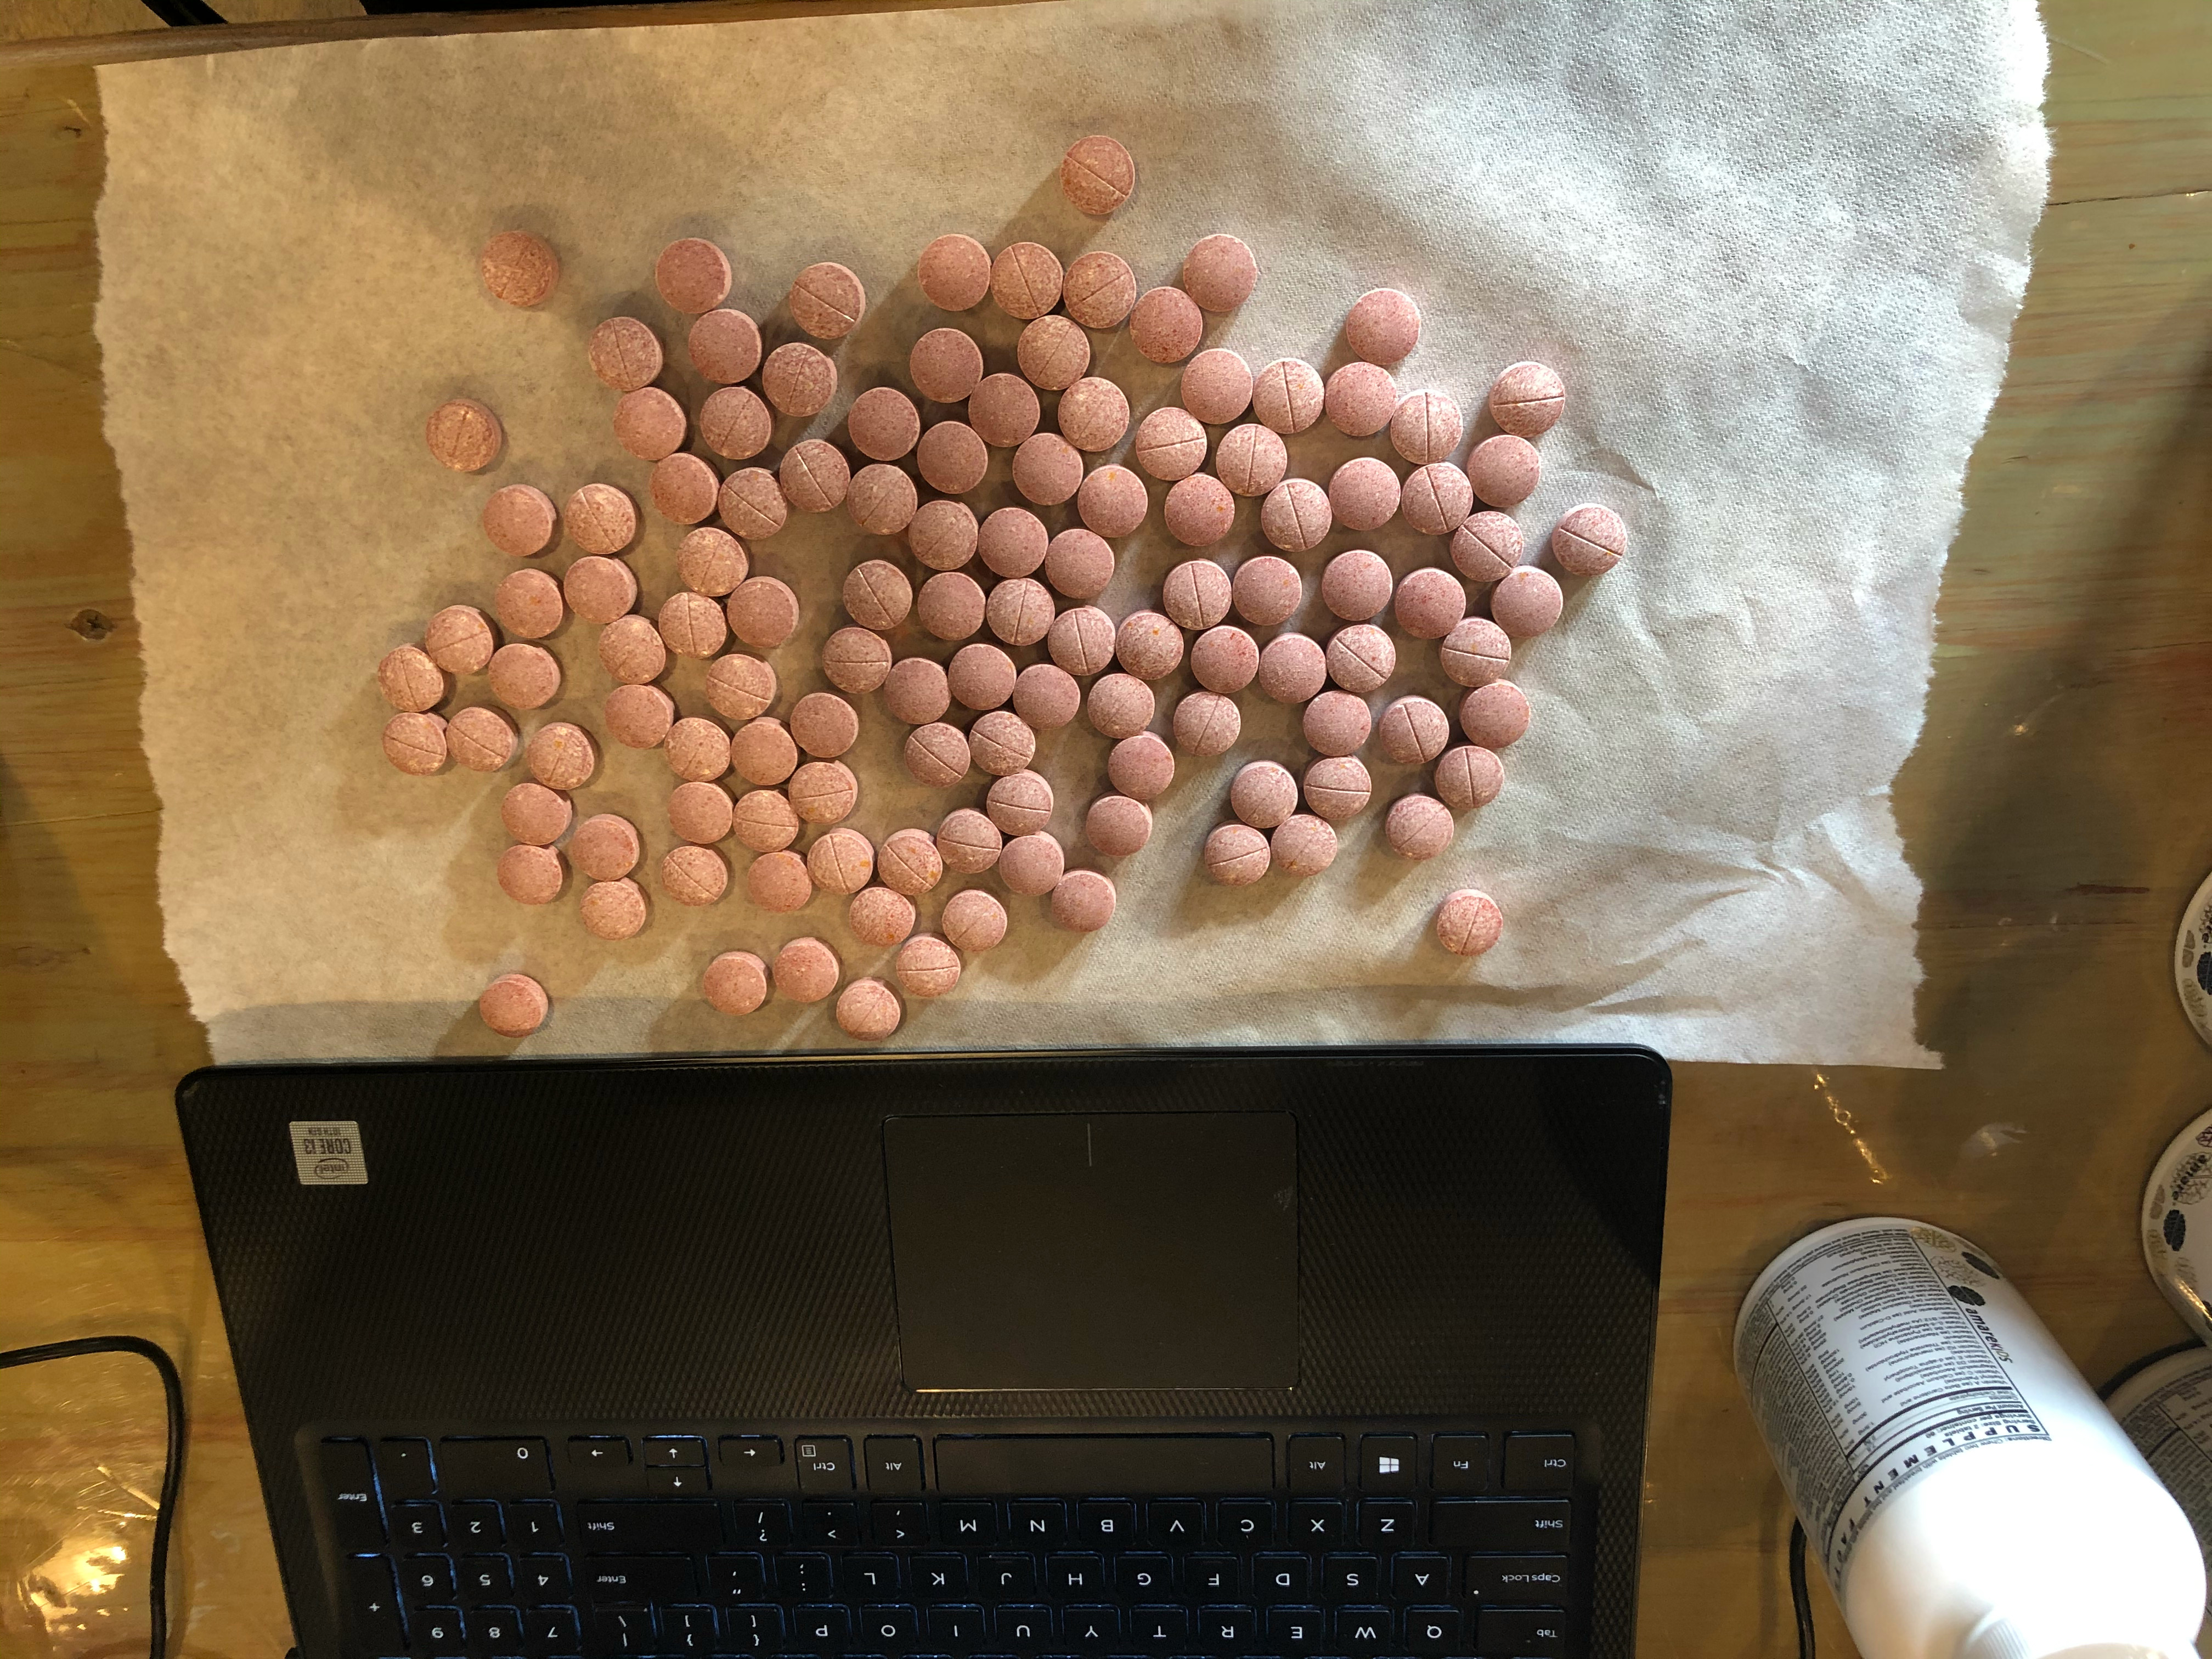tablet: (651, 237, 737, 315), (1059, 132, 1137, 218), (786, 261, 867, 342), (1345, 284, 1425, 366), (1385, 387, 1465, 467), (1181, 234, 1259, 315), (479, 228, 563, 305), (585, 315, 665, 394), (1489, 359, 1568, 439), (1550, 500, 1630, 579), (845, 385, 921, 467), (909, 324, 986, 406), (1177, 345, 1254, 427), (1489, 565, 1568, 643), (1463, 432, 1541, 511), (561, 481, 641, 558), (697, 385, 777, 462), (758, 342, 838, 418), (989, 240, 1066, 321), (1014, 312, 1090, 392), (423, 397, 505, 472), (777, 436, 852, 518), (916, 232, 991, 314), (1062, 251, 1137, 333), (1157, 474, 1238, 549), (611, 385, 690, 462), (1073, 462, 1150, 540), (967, 371, 1042, 451), (840, 558, 916, 634), (1258, 477, 1334, 554), (1251, 357, 1327, 434), (1327, 457, 1404, 533), (914, 418, 989, 497), (1055, 376, 1130, 455), (1132, 406, 1207, 484), (1320, 361, 1395, 439), (688, 308, 763, 385), (845, 462, 920, 538), (1010, 432, 1085, 509), (1230, 554, 1306, 629), (1397, 462, 1474, 537), (1449, 509, 1526, 584), (481, 484, 559, 558), (646, 453, 725, 526), (561, 554, 641, 626), (1130, 286, 1202, 366), (914, 572, 989, 647), (975, 504, 1050, 579), (723, 577, 799, 650), (674, 526, 751, 599), (1379, 791, 1456, 864), (1216, 422, 1289, 498), (1318, 547, 1395, 620), (1458, 678, 1531, 755), (1437, 617, 1519, 685), (491, 568, 566, 641), (444, 702, 519, 775), (906, 498, 979, 573), (1160, 558, 1233, 633), (1392, 565, 1465, 640), (1376, 695, 1453, 767), (484, 641, 563, 711), (421, 603, 495, 676), (1190, 624, 1263, 697), (1226, 758, 1299, 831), (1324, 624, 1397, 697), (718, 467, 789, 542), (1432, 889, 1507, 960), (1045, 525, 1115, 601), (1299, 755, 1376, 824), (1299, 690, 1379, 756), (986, 577, 1059, 648), (1103, 734, 1176, 805), (1258, 633, 1329, 706), (1432, 744, 1507, 814), (702, 653, 779, 721), (477, 971, 550, 1040), (570, 812, 643, 882), (599, 613, 669, 687), (819, 626, 892, 695), (500, 781, 575, 849), (601, 683, 676, 751), (1082, 791, 1157, 859), (523, 721, 599, 788), (657, 843, 735, 908), (1115, 610, 1184, 681), (374, 645, 449, 711), (944, 645, 1019, 711), (493, 843, 570, 908), (773, 936, 843, 1006), (934, 807, 1003, 877), (700, 950, 772, 1018), (732, 788, 803, 856), (657, 589, 728, 657), (881, 657, 953, 725), (578, 878, 653, 943), (1082, 674, 1157, 739), (730, 718, 798, 788), (789, 758, 859, 826), (791, 690, 860, 758), (998, 831, 1066, 901), (1012, 662, 1082, 730), (380, 711, 451, 777), (662, 716, 733, 782), (967, 709, 1038, 775), (1170, 692, 1242, 758), (834, 978, 907, 1042), (982, 772, 1055, 836), (941, 889, 1008, 957), (806, 830, 876, 896), (1050, 868, 1120, 934), (1270, 812, 1339, 878), (876, 828, 944, 894), (904, 721, 972, 788), (1047, 608, 1115, 674), (745, 850, 815, 915), (1200, 824, 1270, 889), (846, 885, 918, 948), (894, 934, 961, 999), (665, 782, 735, 843)
